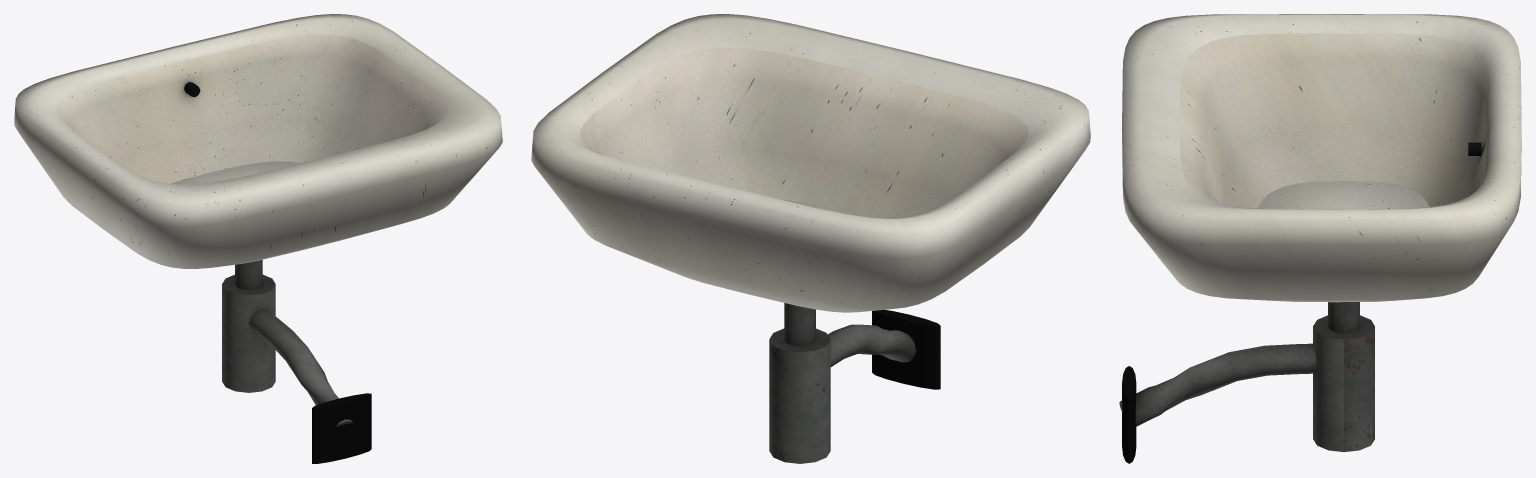
File: sink_wall_rect_web.glb
3 renders of one model, left to right at view 1: azimuth 30°, elevation 25°; view 2: azimuth 150°, elevation 25°; view 3: azimuth 270°, elevation 25°, orthographic. The views are drawn at different scales.
Parts seen in each view (by area): view 1: SinkWallRect_Body; view 2: SinkWallRect_Body; view 3: SinkWallRect_Body.
Boxes of the visible parts, box(x1,y1,x2,y2) form: SinkWallRect_Body: box(14, 14, 502, 463); SinkWallRect_Body: box(531, 14, 1090, 463); SinkWallRect_Body: box(1119, 14, 1521, 463).
Size of the model in its own units: 0.555 by 0.416 by 0.4531.
2 materials, 2 textured.
